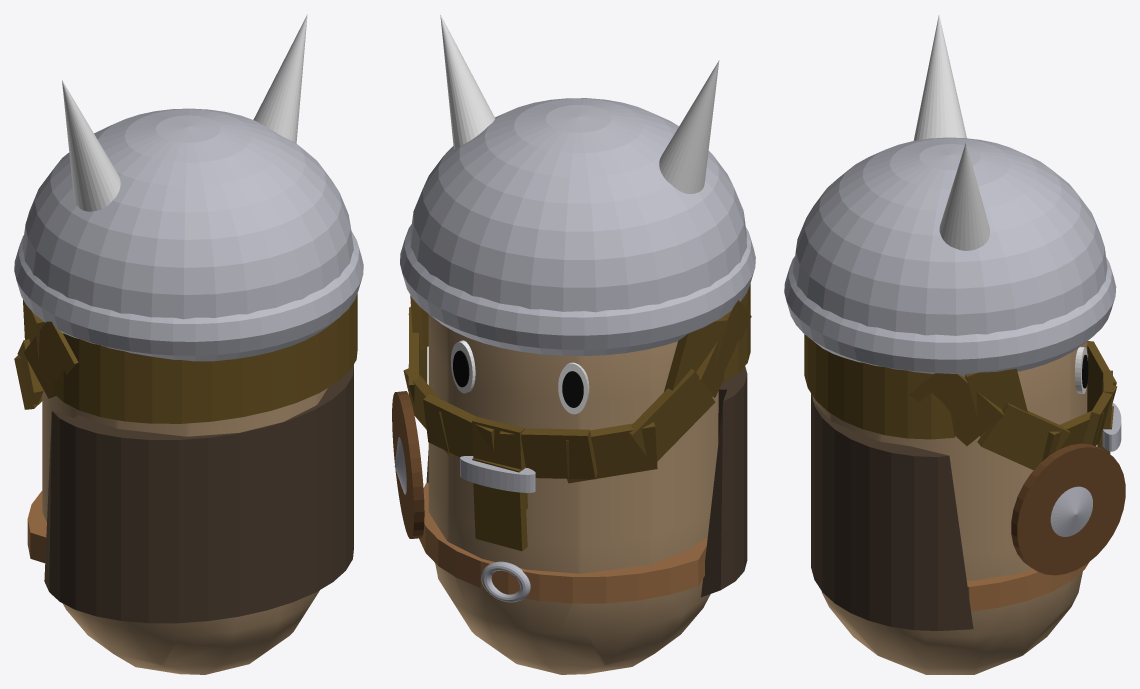
File: early_dwarf.glb
3 views of the same model, side by side, from view 1: azimuth 30°, elevation 25°; view 2: azimuth 150°, elevation 25°; view 3: azimuth 270°, elevation 25° (orthographic). The views are drawn at different scales.
Parts seen in each view (by area): view 1: Cylinder.002, Sphere, Cylinder.001, Torus, Mball.002, Cone.003, Cone.002, Cube.010, Cylinder.003, Cube.009, Cube.008; view 2: Sphere, Mball.002, Torus, Cylinder.003, Cylinder.002, Cone.003, Cube.006, Cube.009, Cone.002, Cube.011, Cylinder.004, Cube.007 (+13 smaller); view 3: Sphere, Cylinder.002, Mball.002, Torus, Cylinder.004, Cylinder.001, Cone.003, Cube.004, Cone.002, Cube.001, Cylinder.003, Cube.002 (+5 smaller).
Boxes of the visible parts, x1,y1,x2,y2 form: Cylinder.002: (44, 364, 353, 623); Sphere: (22, 108, 353, 319); Cylinder.001: (52, 293, 357, 423); Torus: (14, 231, 363, 361); Mball.002: (42, 388, 327, 674); Cone.003: (62, 80, 120, 211); Cone.002: (253, 14, 307, 143); Cube.010: (23, 321, 78, 398); Cylinder.003: (27, 491, 46, 563); Cube.009: (17, 339, 43, 405); Cube.008: (23, 300, 45, 361); Sphere: (410, 98, 746, 312); Mball.002: (428, 314, 718, 674); Torus: (400, 224, 755, 356); Cylinder.003: (419, 483, 707, 603); Cylinder.002: (426, 366, 747, 597); Cone.003: (659, 60, 719, 193); Cube.006: (499, 428, 597, 479); Cube.009: (629, 368, 715, 461); Cone.002: (440, 14, 495, 148); Cube.011: (472, 458, 527, 551); Cylinder.004: (392, 391, 424, 538); Cube.007: (566, 422, 657, 483); Sphere: (793, 137, 1107, 335); Cylinder.002: (811, 393, 973, 630); Mball.002: (813, 341, 1087, 674); Torus: (784, 256, 1116, 376); Cylinder.004: (1011, 443, 1125, 575); Cylinder.001: (804, 334, 955, 439); Cone.003: (913, 15, 966, 140); Cube.004: (977, 402, 1070, 470); Cone.002: (939, 143, 989, 250); Cube.001: (909, 373, 1004, 445); Cylinder.003: (967, 562, 1089, 611); Cube.002: (965, 368, 1027, 436).
Size of the model in its own units: 2.74 by 5.33 by 2.82.
